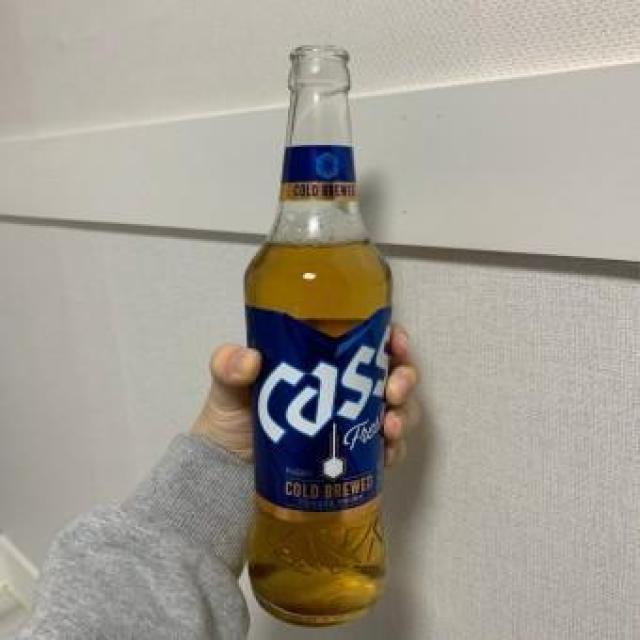beer-bottle: (229, 26, 417, 640)
